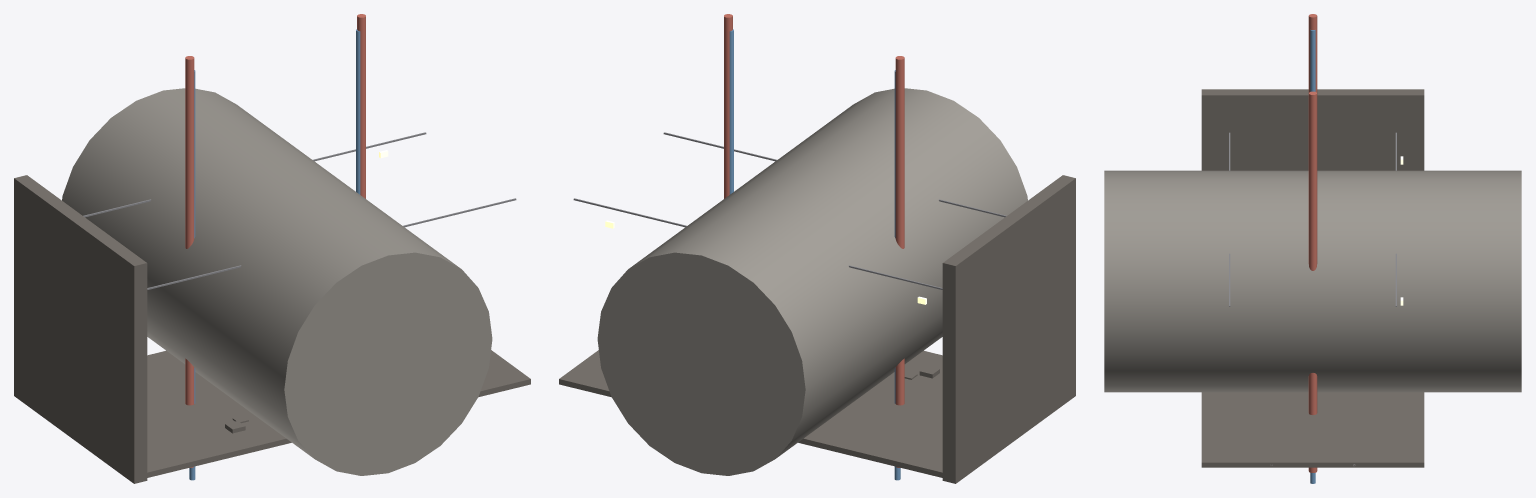
File: subway_tunnel.glb
The picture shows the model from 3 angles, left to right: view 1: azimuth 30°, elevation 25°; view 2: azimuth 150°, elevation 25°; view 3: azimuth 270°, elevation 25°; orthographic projection. The views are drawn at different scales.
Visible parts, largest first — view 1: ceiling, end_cap_l, floor, pipe_red_l, pipe_red_r, pipe_blue_r, cable_r; view 2: ceiling, end_cap_l, floor, pipe_red_l, pipe_red_r, pipe_blue_r, cable_l; view 3: ceiling, end_cap_l, floor, pipe_red_r, pipe_red_l.
Boxes of the visible parts, left/top/right/bottom form: ceiling: left=62, top=88, right=492, bottom=475; end_cap_l: left=14, top=175, right=147, bottom=483; floor: left=140, top=350, right=530, bottom=479; pipe_red_l: left=185, top=56, right=194, bottom=467; pipe_red_r: left=357, top=14, right=365, bottom=198; pipe_blue_r: left=356, top=29, right=360, bottom=194; cable_r: left=147, top=198, right=516, bottom=289; ceiling: left=597, top=88, right=1027, bottom=475; end_cap_l: left=942, top=175, right=1075, bottom=483; floor: left=559, top=350, right=949, bottom=479; pipe_red_l: left=895, top=56, right=904, bottom=467; pipe_red_r: left=724, top=14, right=732, bottom=198; pipe_blue_r: left=729, top=29, right=733, bottom=194; cable_l: left=573, top=198, right=942, bottom=289; ceiling: left=1104, top=170, right=1521, bottom=392; end_cap_l: left=1201, top=89, right=1424, bottom=170; floor: left=1201, top=392, right=1424, bottom=467; pipe_red_r: left=1308, top=91, right=1317, bottom=472; pipe_red_l: left=1308, top=14, right=1317, bottom=92.
Bounding box in the file's own units: 15.25 × 15.5 × 15.
